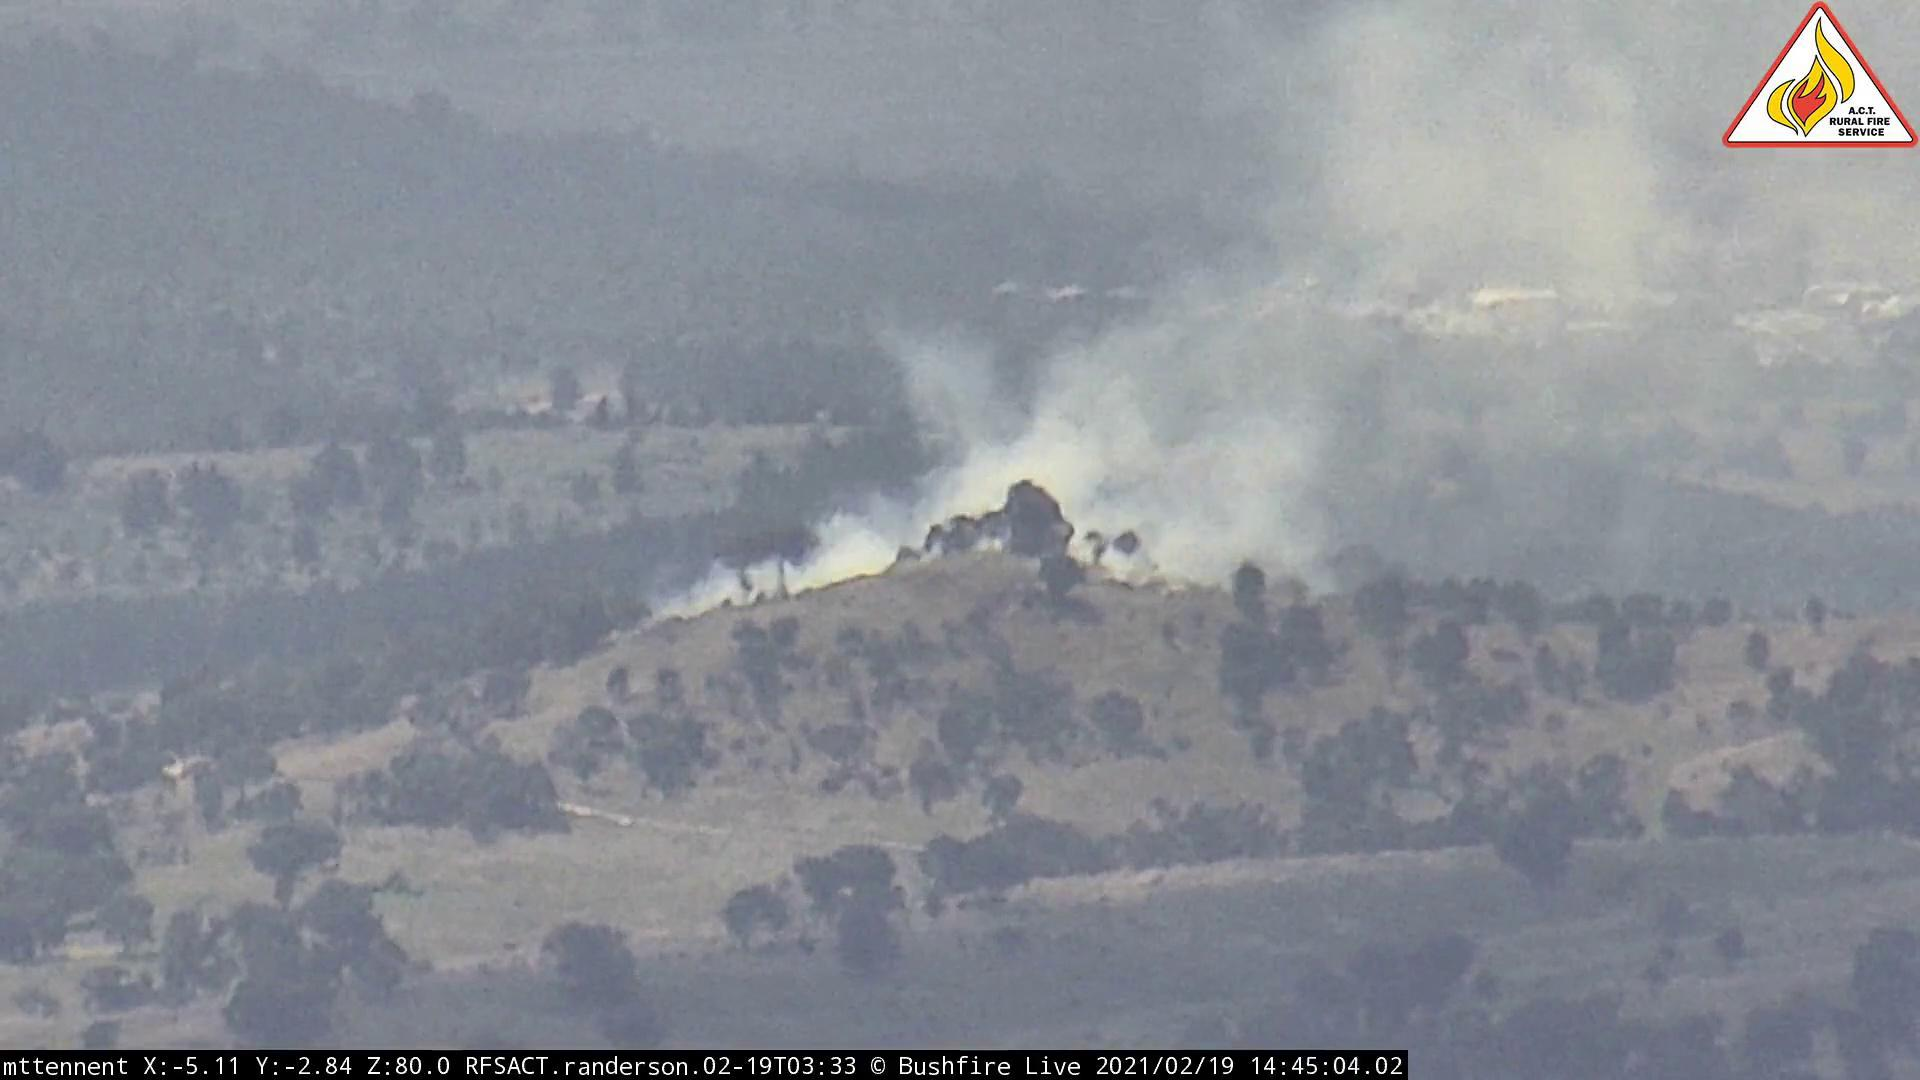Smoke: (644, 20, 1716, 638)
